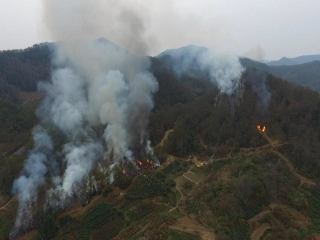smoke: (19, 5, 161, 203), (176, 37, 249, 99)
